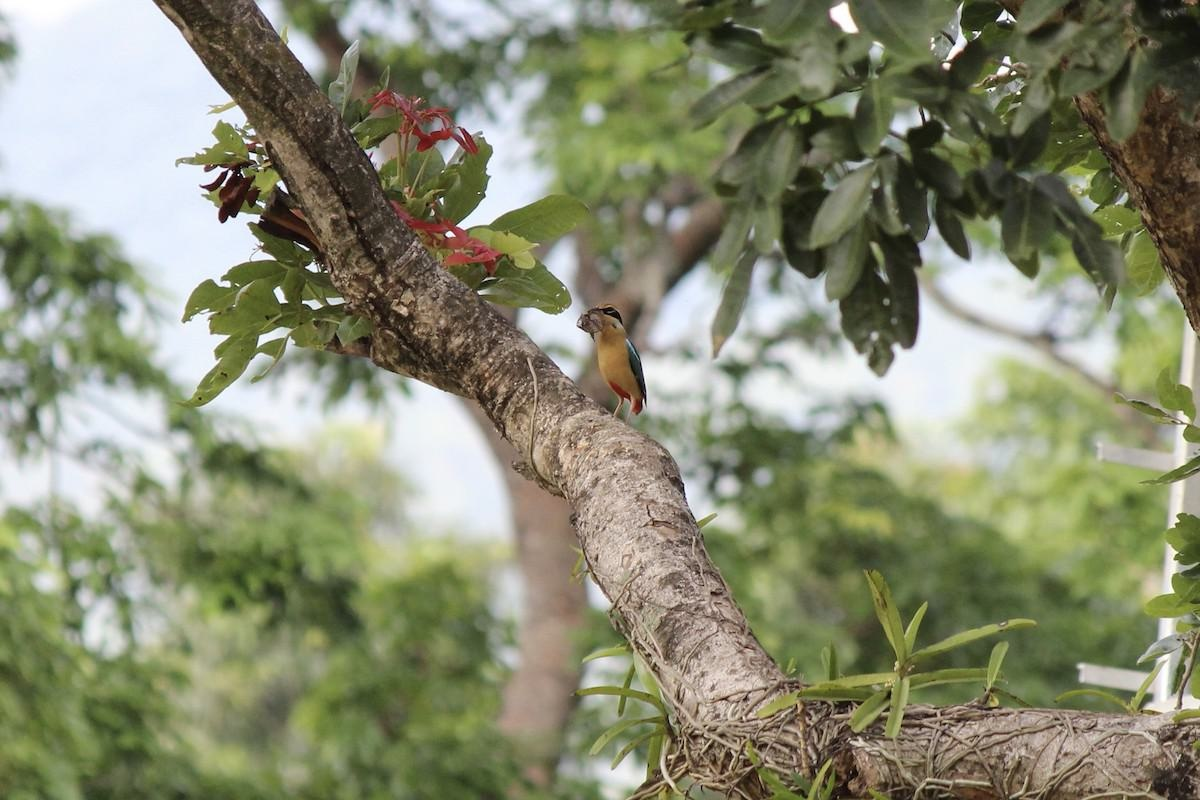pitta: (563, 296, 693, 435)
